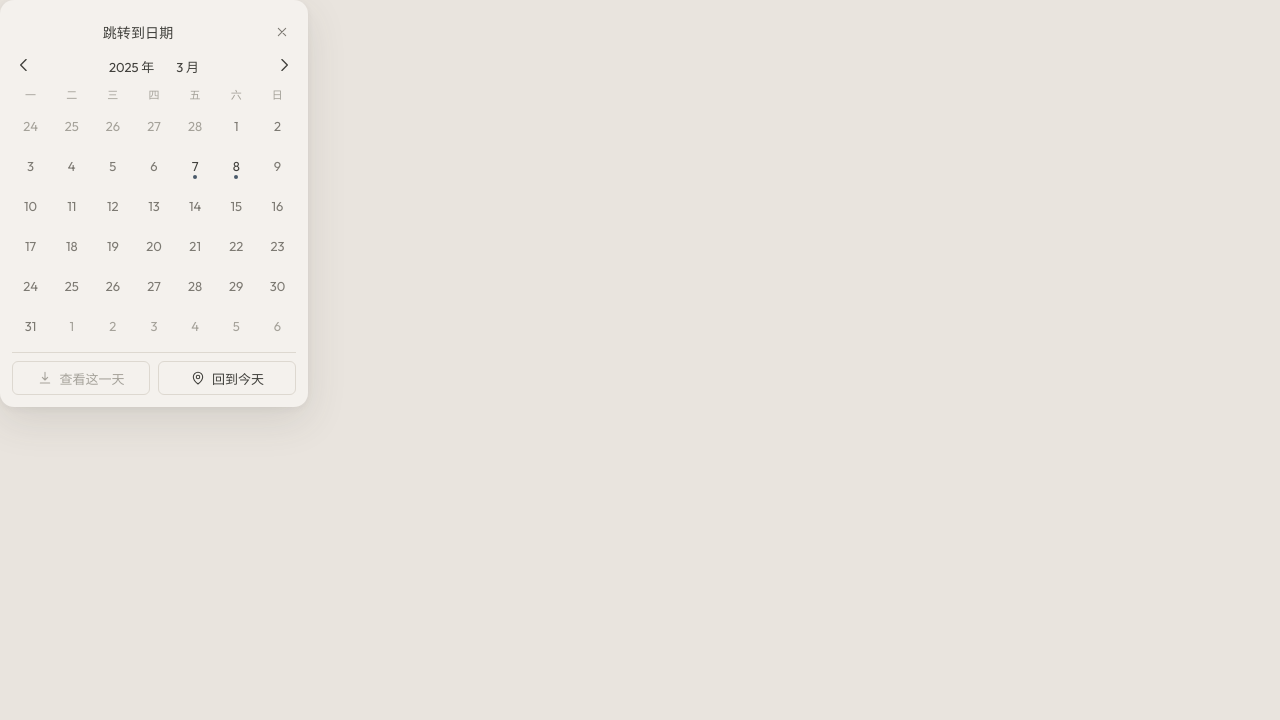
Scenario: 复现 · 年→月→日 完整链路 › 点可选日后 aria-selected 生效（选中链路通）
The image size is (1280, 720).
Step 1. Click the button with class "nav-pick" showing "2025 年" → (132, 66), box [100, 54, 163, 78]
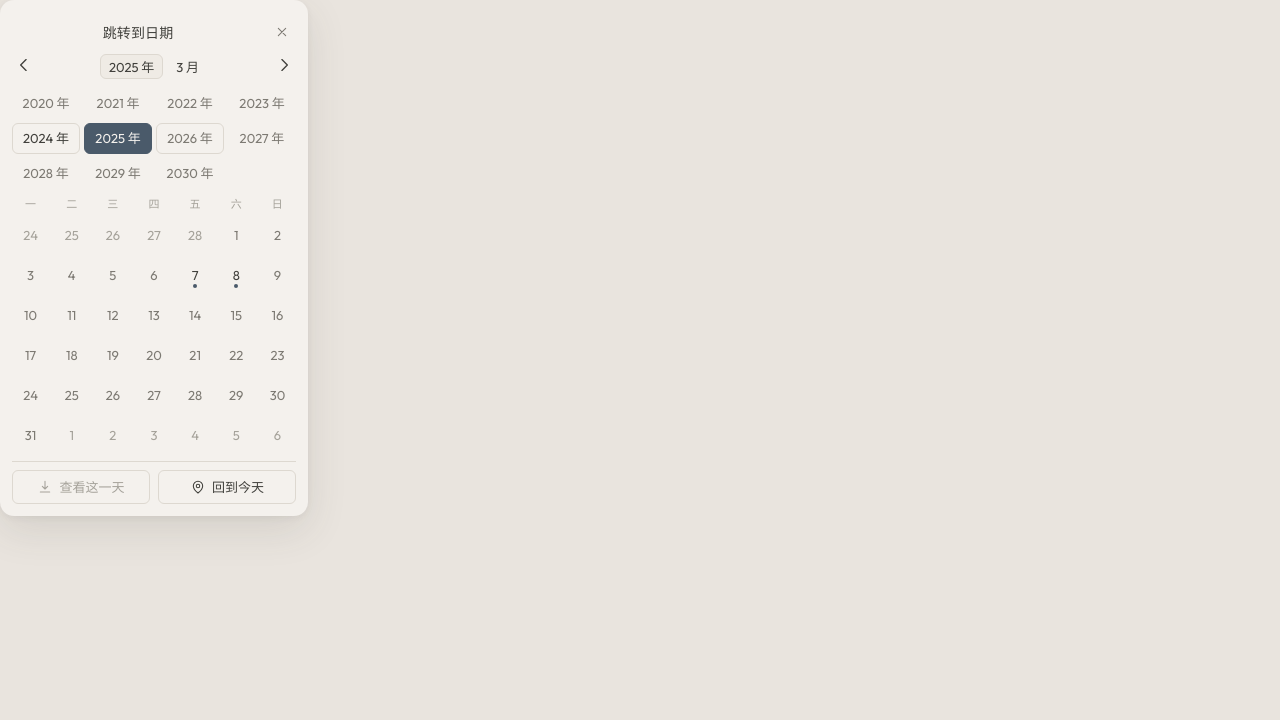
Step 2. Click the option with class "nav-cell" showing "2024 年" → (46, 138), box [12, 123, 80, 154]
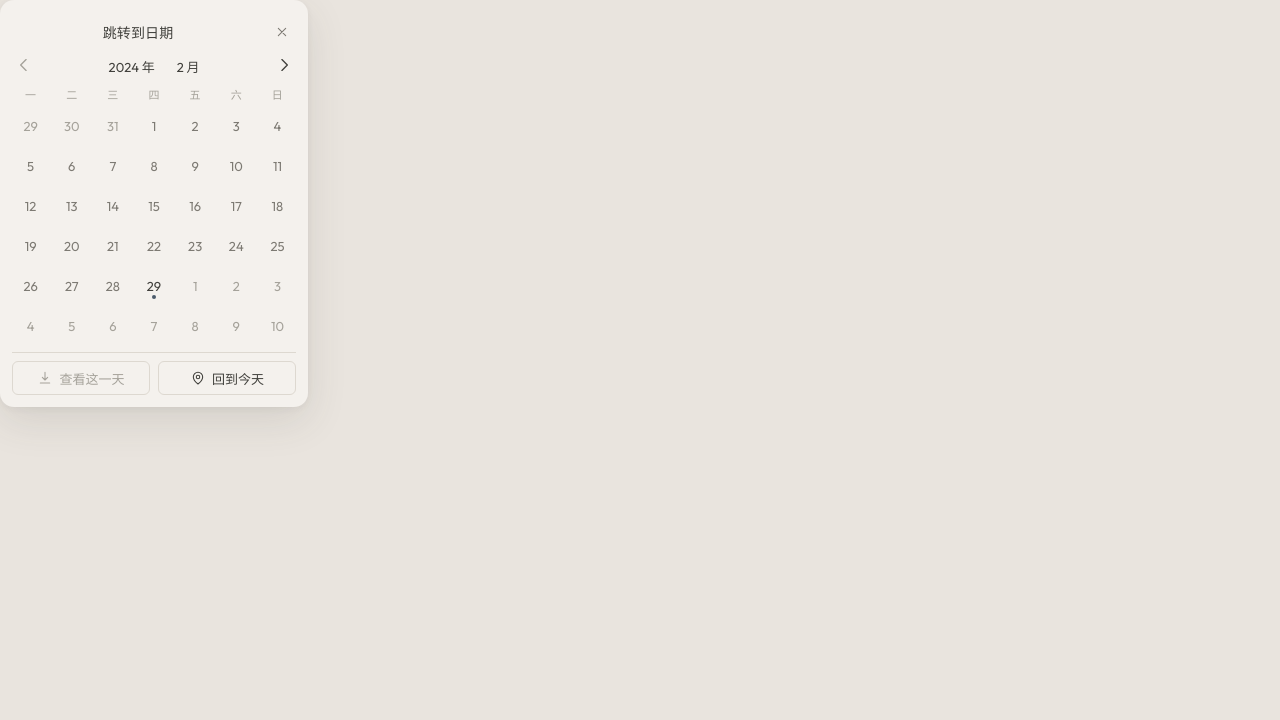
Step 3. Click the button with class "nav-pick" showing "2 月" → (188, 66), box [168, 54, 208, 78]
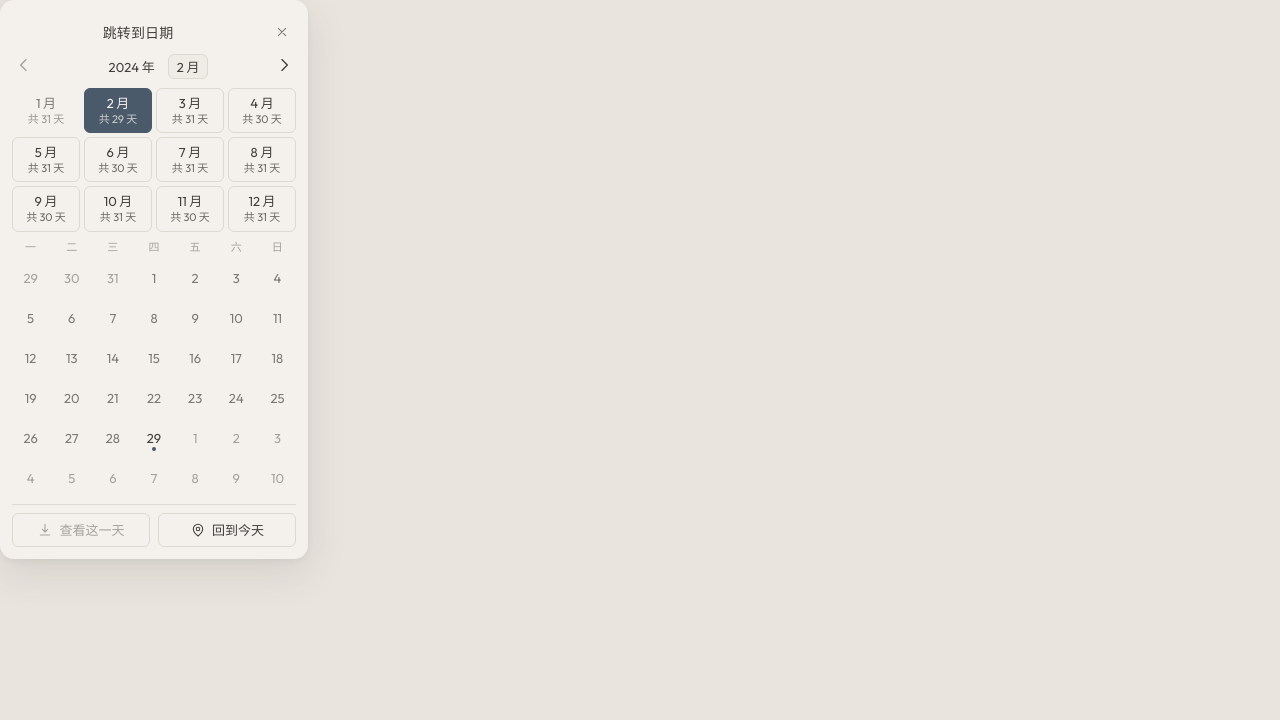
Step 4. Click the option with class "nav-cell" showing "11 月 共 30 天" → (190, 209), box [156, 186, 224, 232]
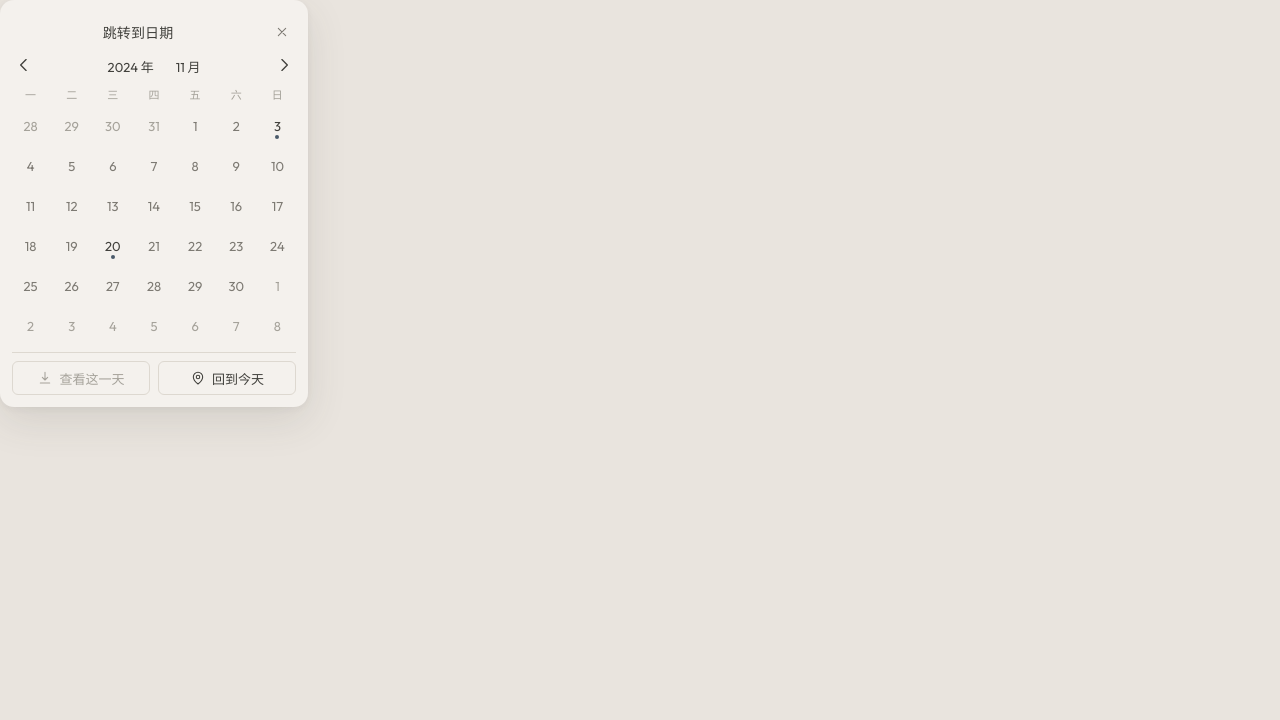
Step 5. Click the 7th cell with class "cg-cell" → (277, 126), box [259, 108, 296, 144]
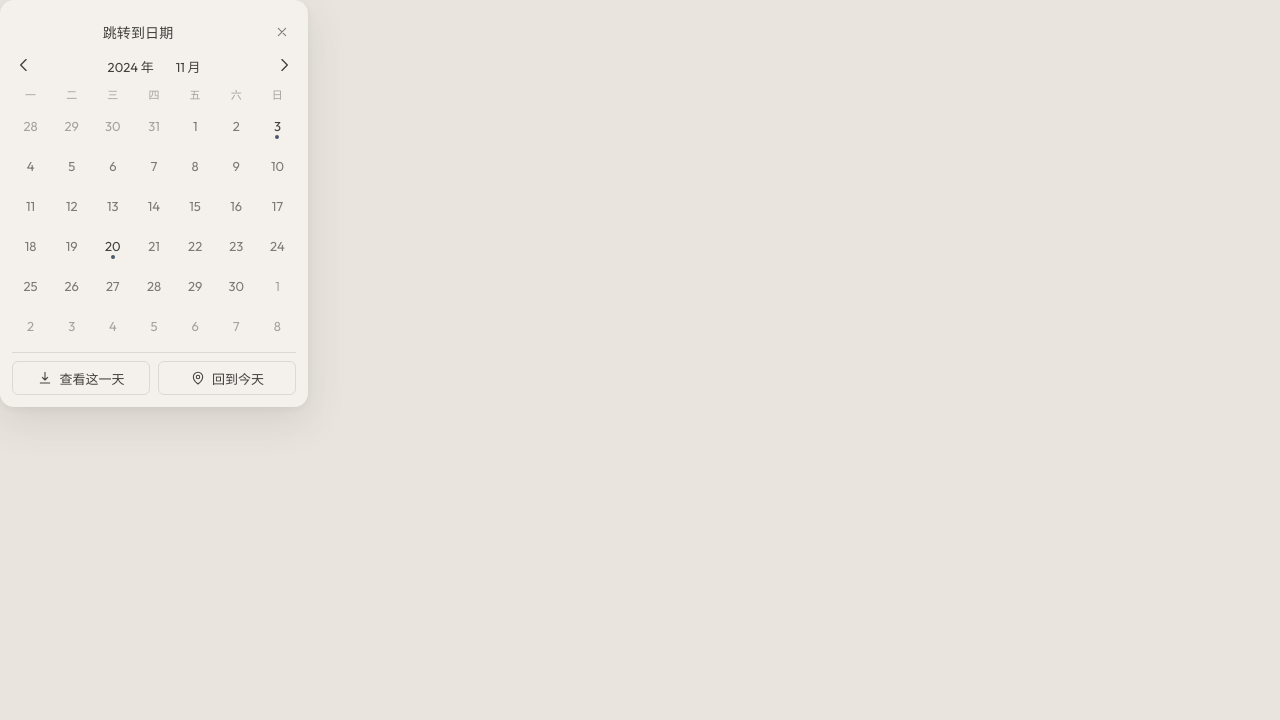
Check: the button with class "dp-act" showing "查看这一天" is enabled, box [12, 361, 150, 395]
